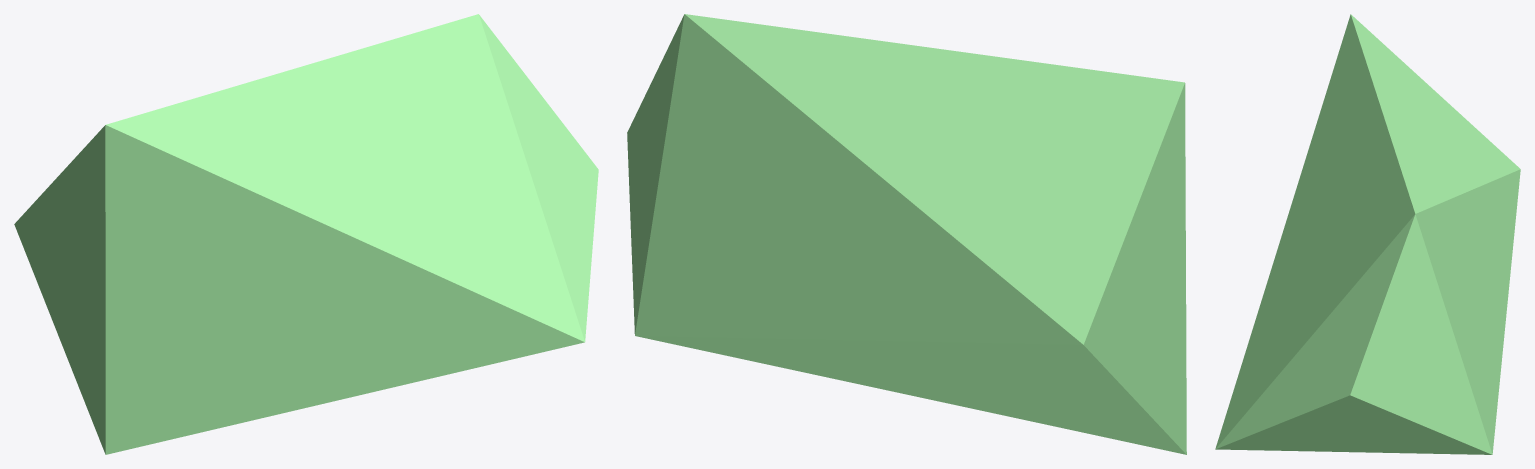
File: linkhou_LR4_R560_link7_respondable_coll_1.dae
The picture shows the model from 3 angles, left to right: view 1: azimuth 30°, elevation 25°; view 2: azimuth 150°, elevation 25°; view 3: azimuth 270°, elevation 25°; orthographic projection. The views are drawn at different scales.
Visible parts, largest first — view 1: Node_00000209DB3ACC00; view 2: Node_00000209DB3ACC00; view 3: Node_00000209DB3ACC00.
Boxes of the visible parts, x1,y1,x2,y2 form: Node_00000209DB3ACC00: (14, 14, 598, 454); Node_00000209DB3ACC00: (627, 14, 1186, 454); Node_00000209DB3ACC00: (1215, 14, 1520, 454).
Size of the model in its own units: 0.00847 by 0.0054 by 0.00483.
